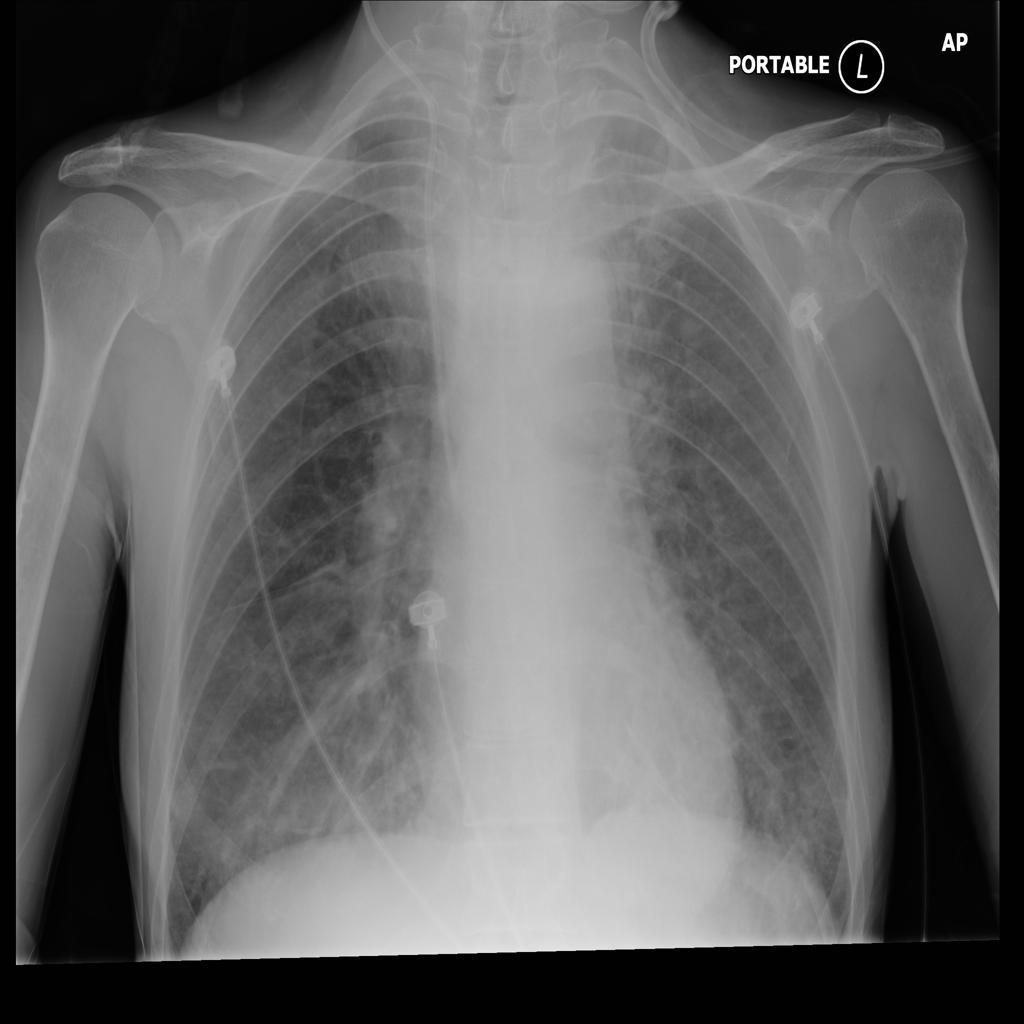nodule: (672, 303, 706, 344)
